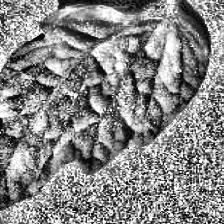leaf mold: (0, 7, 209, 217)
